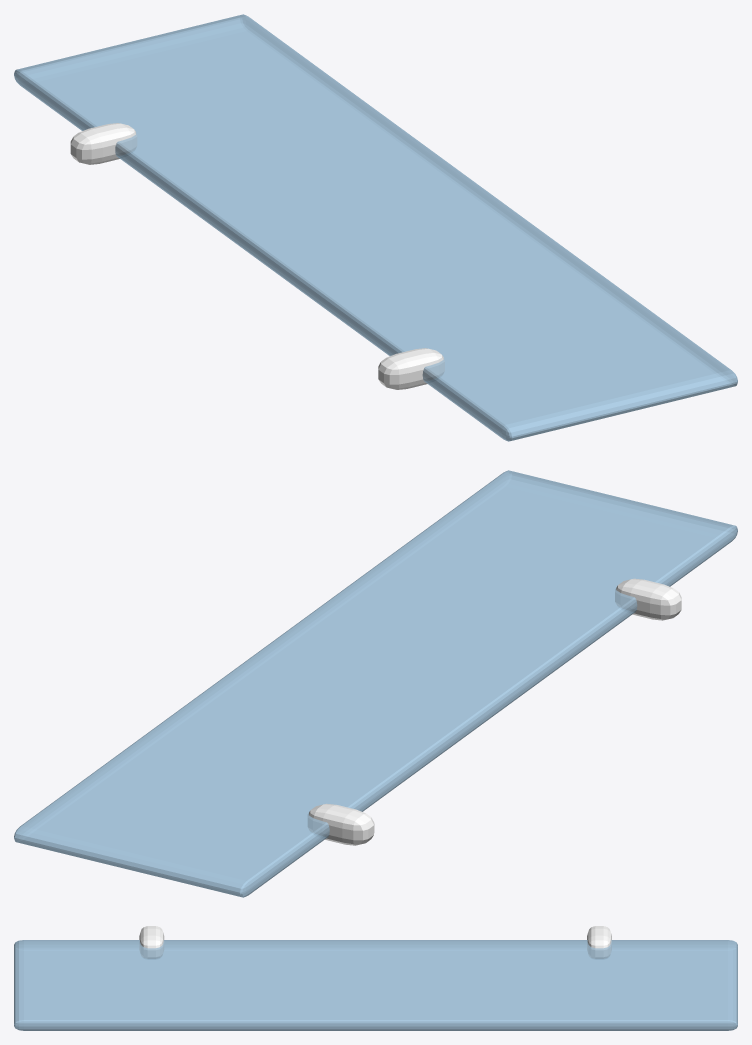
The model's file is camplatform.fbx.
The picture shows the model from 3 angles, top to bottom: view 1: azimuth 30°, elevation 25°; view 2: azimuth 150°, elevation 25°; view 3: azimuth 270°, elevation 25°; orthographic projection. The views are drawn at different scales.
Parts seen in each view (by area): view 1: Plane, Cube; view 2: Plane, Cube; view 3: Plane, Cube.
Boxes of the visible parts, x1,y1,x2,y2 form: Plane: [14, 14, 737, 441]; Cube: [70, 123, 444, 389]; Plane: [14, 470, 737, 897]; Cube: [308, 578, 681, 845]; Plane: [14, 940, 737, 1030]; Cube: [139, 926, 611, 958].
Bounding box in the file's own units: 61.44 × 6.53 × 200.
